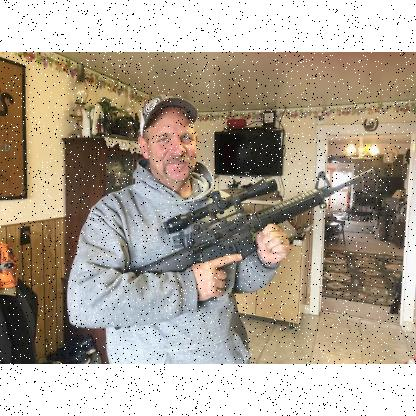gun: (103, 164, 374, 328)
